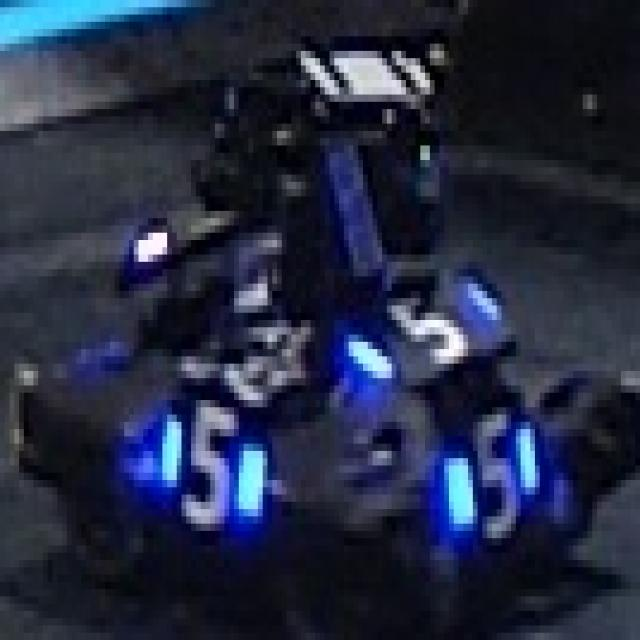B5: (332, 251, 509, 382), (430, 400, 544, 545), (151, 382, 265, 527)
